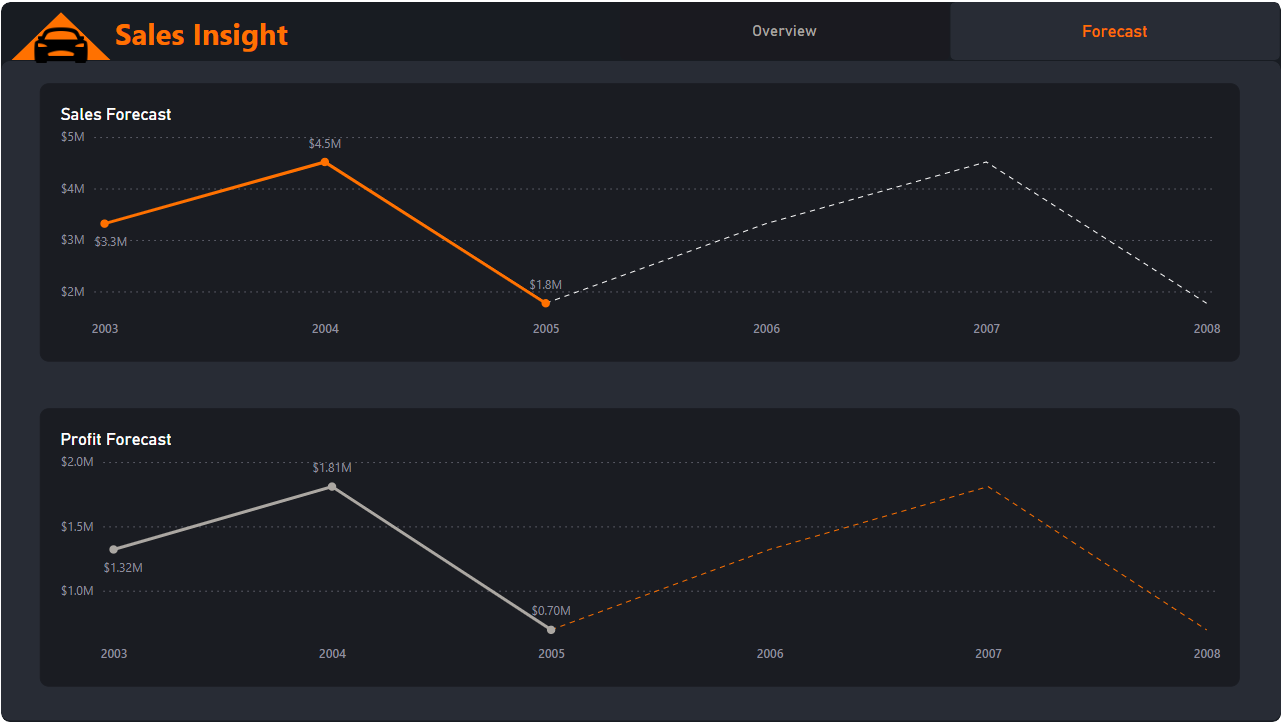

What the dashboard file says about the page in this screenshot:
{"tool":"powerbi","page":{"name":"Forecast","canvas":[1280,720],"ordinal":1},"visuals":[{"type":"shape","box":[0,0,1280.3,720.1],"z":0},{"type":"shape","box":[0,58.3,1280,660],"z":1000},{"type":"lineChart","title":"Sales Forecast","fields":{"Y":["MyMeasure.Sales"],"Category":["DateTable.Date.Variation.Date Hierarchy.Year"]},"box":[38.3,81.7,1200,278.3],"z":2000},{"type":"lineChart","title":"Profit Forecast","fields":{"Y":["MyMeasure.Profit"],"Category":["DateTable.Date.Variation.Date Hierarchy.Year"]},"box":[38.3,406.7,1200,278.3],"z":3000},{"type":"pageNavigator","box":[618.3,0,661.7,58.3],"z":4000},{"type":"actionButton","box":[110,5,191.7,50],"z":5000},{"type":"group","id":"g1","title":"Group 2","box":[10,10,100,66.7],"z":6000},{"type":"shape","box":[10,10,100,48.3],"z":18000,"group":"g1"},{"type":"image","box":[10,10,100,66.7],"z":19000,"group":"g1"}]}

Visuals, with their boxes in screenshot pixels (x1, y1, x2, y2), scaled from the page's 1280x720 canvas onto the 1281x722 screenshot:
shape: rect(0, 0, 1280, 721)
shape: rect(0, 58, 1280, 720)
"Sales Forecast" lineChart: rect(38, 82, 1239, 361)
"Profit Forecast" lineChart: rect(38, 408, 1239, 687)
pageNavigator: rect(619, 0, 1280, 58)
actionButton: rect(110, 5, 302, 55)
"Group 2" group: rect(10, 10, 110, 77)
shape: rect(10, 10, 110, 58)
image: rect(10, 10, 110, 77)
